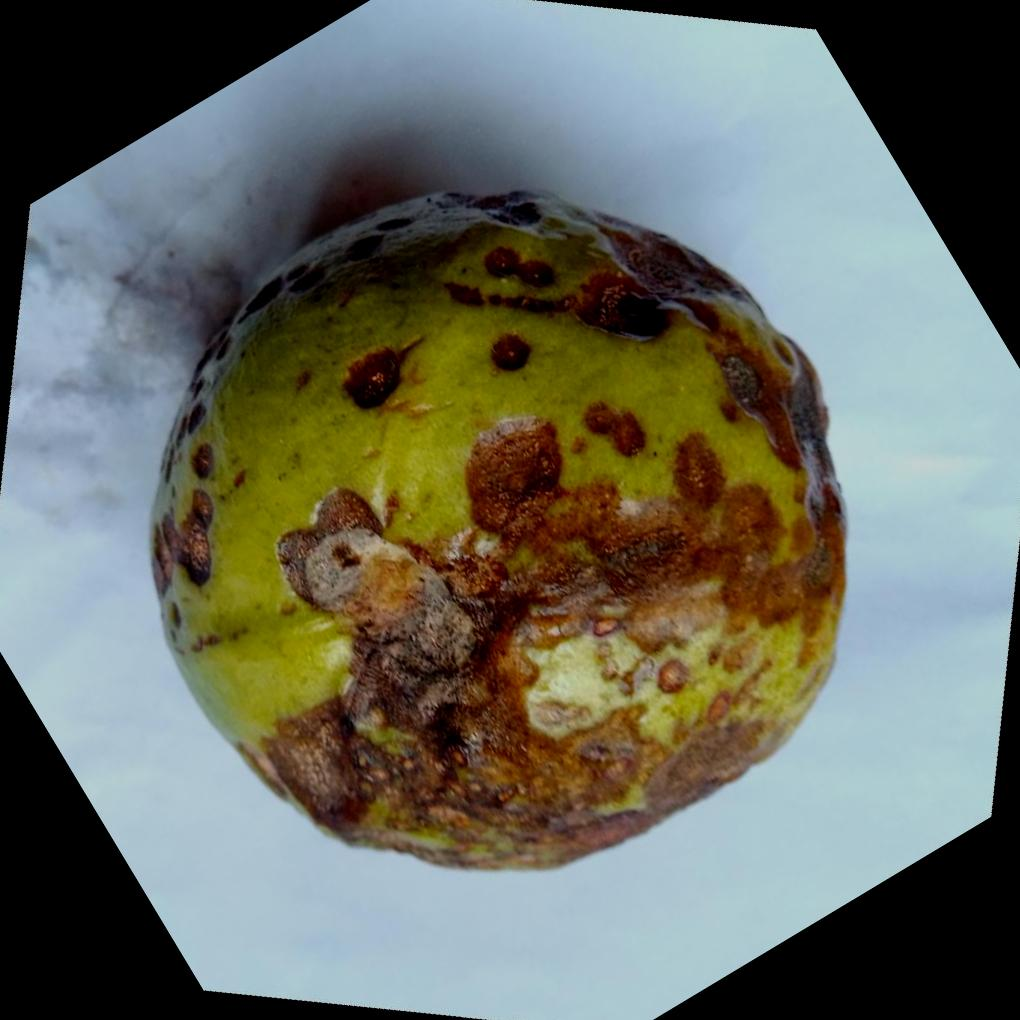FreshOrange: (147, 189, 851, 877)
